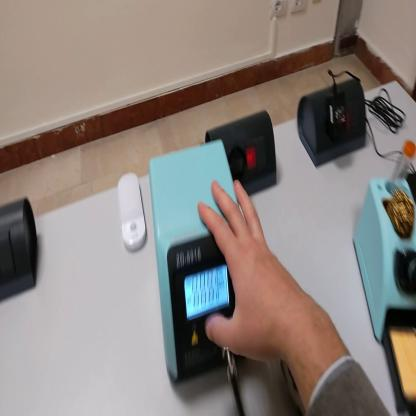hand: (199, 177, 299, 364)
socket: (298, 78, 368, 169), (205, 111, 278, 196)
welder base: (354, 174, 415, 409)
welder station: (149, 145, 249, 393)
